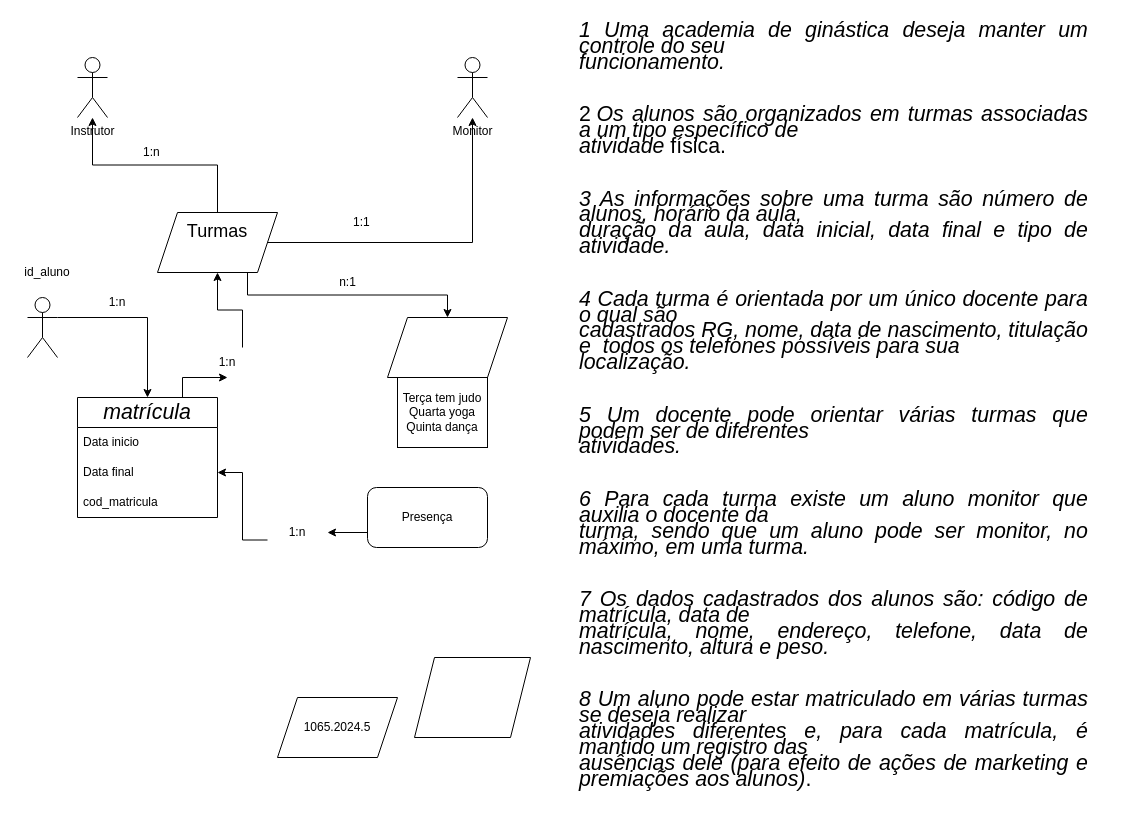
This 1124x824 diagram has some shape labels left out. Each missing label, with the centre of its shape:
"Alunos" belongs at (42,327).
"Atividades" belongs at (447,347).
"id_aluno 15/05 10 Aula de luta -- Musculação 13 : Yoga" belongs at (472,697).
